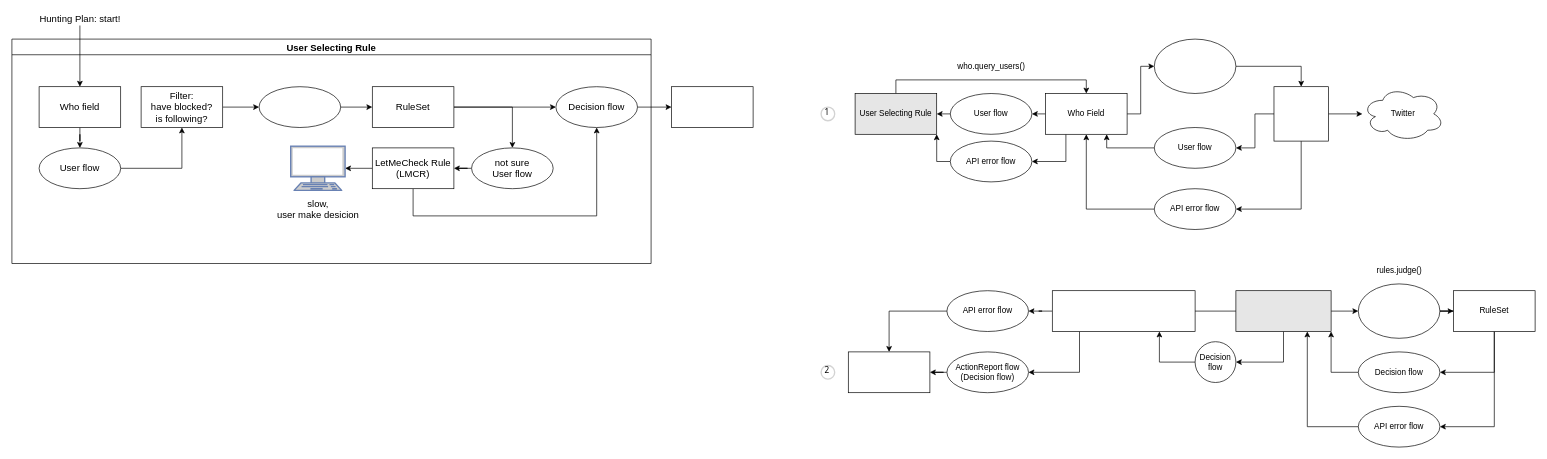
Image size: 1547x459. Some labels were removed from this diagram. Each missing label, with the centre of its shape:
"Action" belongs at (712,107).
"action USR.merge(observable) action.execute(decision)" belongs at (1123,311).
"client (tweepy hunter)" belongs at (1300,113).
"Context flow (User flow)" belongs at (1399,310).
"Hunting Plan: print to report" belongs at (889,372).
"info for quering user, flow" belongs at (1195,66).
"User flow (Context flow)" belongs at (299,107).
"User Selecting Rule: action.execute(decision)" belongs at (1283,311).
